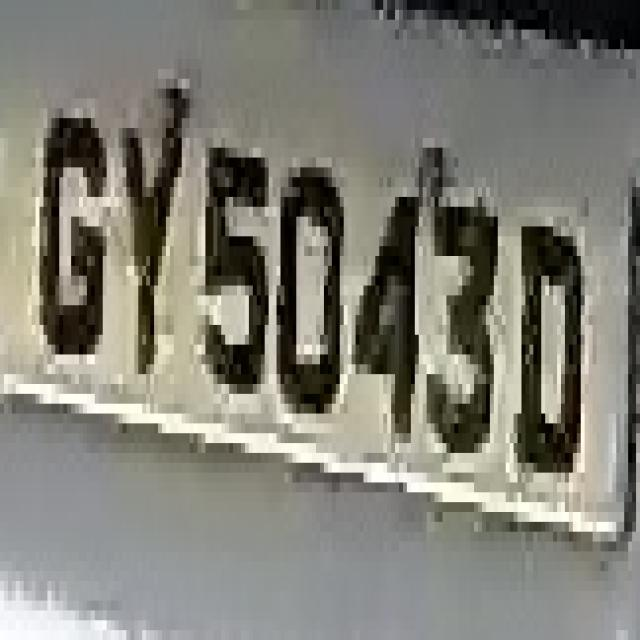0: (276, 138, 352, 443)
3: (419, 128, 498, 453)
4: (348, 158, 430, 443)
5: (202, 118, 280, 433)
D: (509, 187, 588, 492)
G: (32, 79, 118, 374)
Y: (114, 79, 186, 414)
